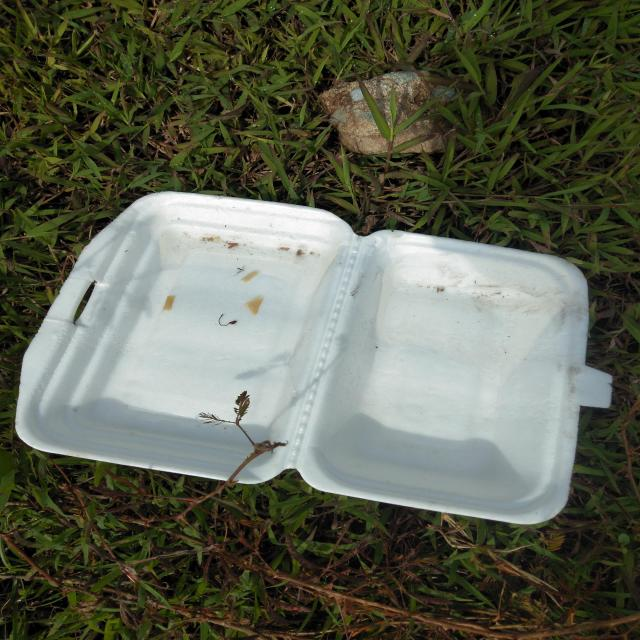litter: (15, 190, 613, 526)
